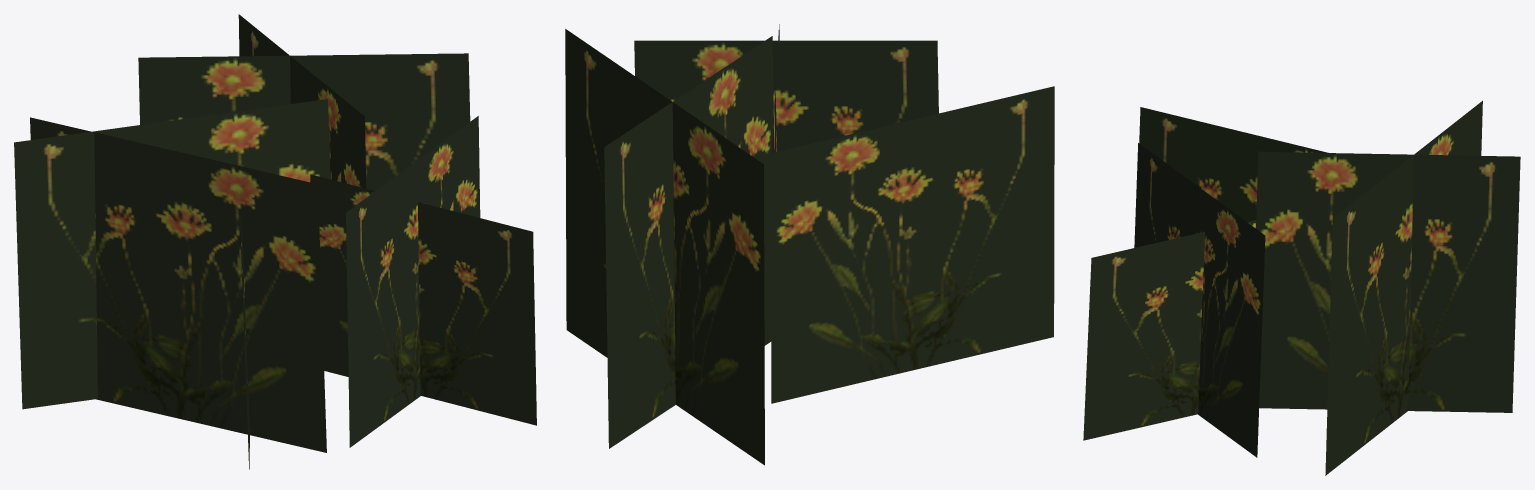
The model's file is wm_灌木小灌木09.fbx.
The picture shows the model from 3 angles, left to right: view 1: azimuth 30°, elevation 25°; view 2: azimuth 150°, elevation 25°; view 3: azimuth 270°, elevation 25°; orthographic projection. The views are drawn at different scales.
Parts seen in each view (by area): view 1: wm_灌木小灌木09; view 2: wm_灌木小灌木09; view 3: wm_灌木小灌木09.
Part boxes in pixels (x1,y1,x2,y2): wm_灌木小灌木09: (14,14,536,469); wm_灌木小灌木09: (565,24,1054,465); wm_灌木小灌木09: (1083,100,1520,475).
Bounding box in the file's own units: 136 × 79.9 × 123.
